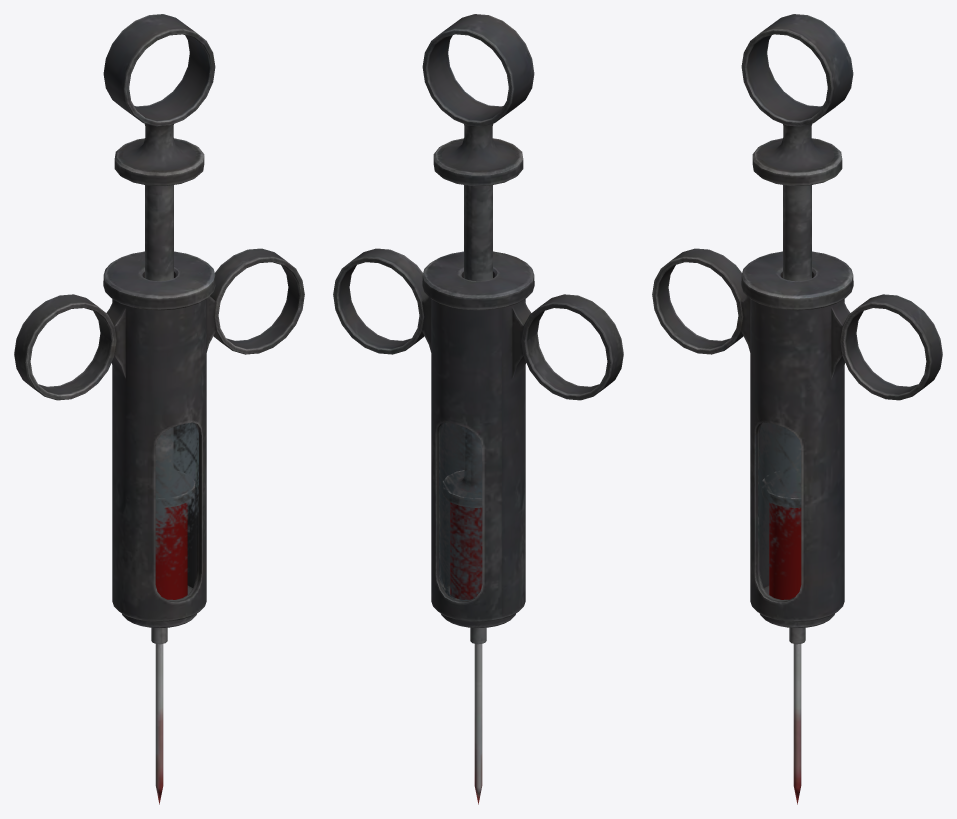
File: syringe.glb
3 views of the same model, side by side, from view 1: azimuth 30°, elevation 25°; view 2: azimuth 150°, elevation 25°; view 3: azimuth 330°, elevation 25° (orthographic).
Visible parts, largest first — view 1: base, pump, liquid; view 2: base, pump, liquid; view 3: base, pump, liquid.
Boxes of the visible parts, <box> form: base: <box>14,248,304,804</box>; pump: <box>103,14,215,507</box>; liquid: <box>155,503,187,599</box>; base: <box>333,248,623,804</box>; pump: <box>422,14,534,507</box>; liquid: <box>450,502,482,599</box>; base: <box>652,248,942,804</box>; pump: <box>741,14,853,507</box>; liquid: <box>769,503,801,599</box>.
Bounding box in the file's own units: 8.6 × 23.04 × 3.
1 material, 1 textured.
